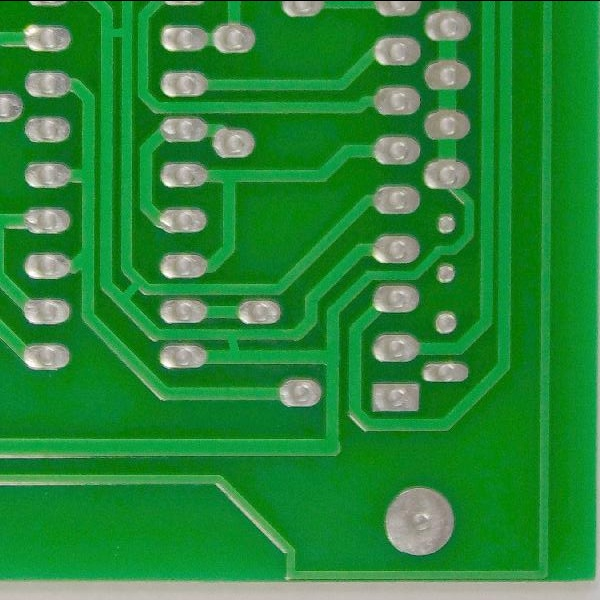short: (113, 272, 151, 316), (94, 14, 131, 54), (222, 324, 244, 370), (331, 1, 369, 16)
